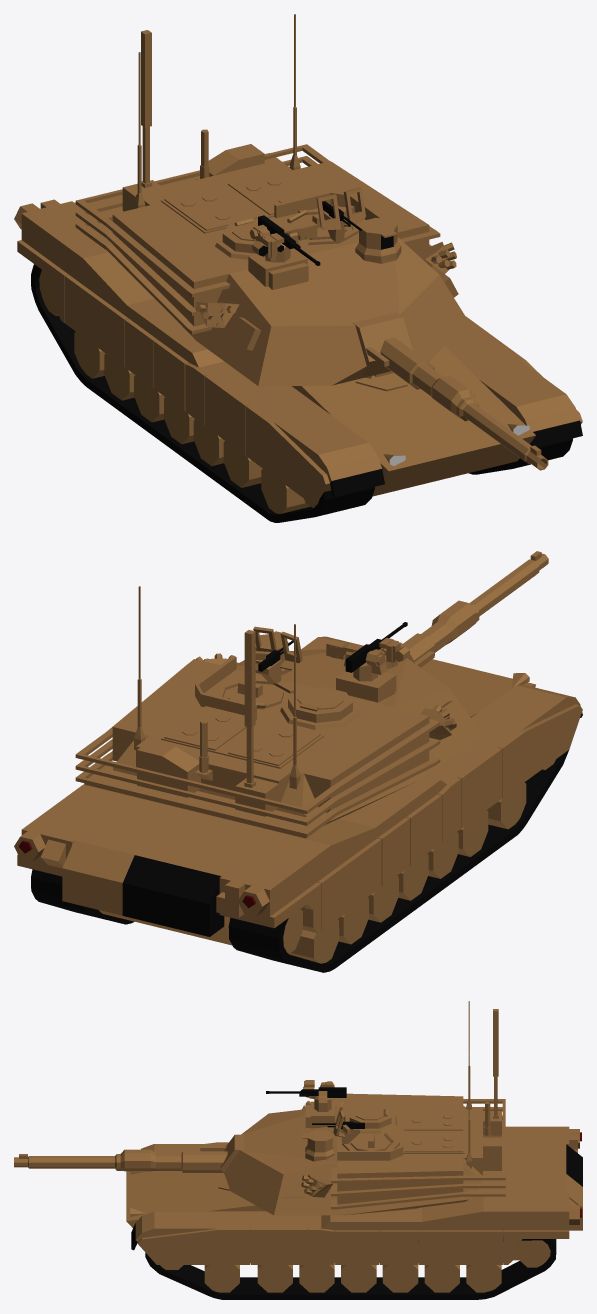
The model's file is Abrams M1A2-SEP v3_NATO-Desert.fbx.
3 renders of one model, top to bottom at view 1: azimuth 30°, elevation 25°; view 2: azimuth 150°, elevation 25°; view 3: azimuth 270°, elevation 25°, orthographic. The views are drawn at different scales.
Visible parts, largest first — view 1: M1A2_Body, M1A2_Turret, M1A2_Traks_R, M1A2_Turret_Main-Cannon, M1A2_Turret_Main-Cannon_Body, M1A2_Same-Color-Parts, M1A2_Turret_Light-Gun_Body, M1A2_Turret_Heavy-Machine-Gun_Body, M1A2_Traks_L; view 2: M1A2_Body, M1A2_Turret, M1A2_Traks_R, M1A2_Same-Color-Parts, M1A2_Turret_Main-Cannon, M1A2_Traks_L, M1A2_Turret_Heavy-Machine-Gun_Body, M1A2_Turret_Light-Gun_Body, M1A2_Turret_Heavy-Machine-Gun; view 3: M1A2_Body, M1A2_Turret, M1A2_Traks_L, M1A2_Turret_Main-Cannon, M1A2_Same-Color-Parts, M1A2_Turret_Heavy-Machine-Gun, M1A2_Turret_Main-Cannon_Body, M1A2_Turret_Light-Gun_Body.
Boxes of the visible parts, <box> form: M1A2_Body: <box>14,153,582,513</box>; M1A2_Turret: <box>75,14,468,386</box>; M1A2_Traks_R: <box>31,264,374,522</box>; M1A2_Turret_Main-Cannon: <box>380,337,548,470</box>; M1A2_Turret_Main-Cannon_Body: <box>353,312,412,377</box>; M1A2_Same-Color-Parts: <box>330,420,582,496</box>; M1A2_Turret_Light-Gun_Body: <box>316,187,365,241</box>; M1A2_Turret_Heavy-Machine-Gun_Body: <box>249,224,299,262</box>; M1A2_Traks_L: <box>469,438,572,474</box>; M1A2_Body: <box>14,636,582,963</box>; M1A2_Turret: <box>75,586,481,838</box>; M1A2_Traks_R: <box>228,749,569,972</box>; M1A2_Same-Color-Parts: <box>122,704,582,936</box>; M1A2_Turret_Main-Cannon: <box>400,551,548,661</box>; M1A2_Traks_L: <box>31,869,134,924</box>; M1A2_Turret_Heavy-Machine-Gun_Body: <box>343,637,409,681</box>; M1A2_Turret_Light-Gun_Body: <box>253,626,302,683</box>; M1A2_Turret_Heavy-Machine-Gun: <box>345,622,407,672</box>; M1A2_Body: <box>126,1126,582,1292</box>; M1A2_Turret: <box>224,1001,505,1215</box>; M1A2_Traks_L: <box>145,1236,556,1299</box>; M1A2_Turret_Main-Cannon: <box>14,1149,227,1172</box>; M1A2_Same-Color-Parts: <box>131,1144,582,1250</box>; M1A2_Turret_Heavy-Machine-Gun: <box>266,1087,346,1097</box>; M1A2_Turret_Main-Cannon_Body: <box>220,1134,244,1173</box>; M1A2_Turret_Light-Gun_Body: <box>333,1101,359,1143</box>.
Bounding box in the file's own units: 366 × 445 × 999.
